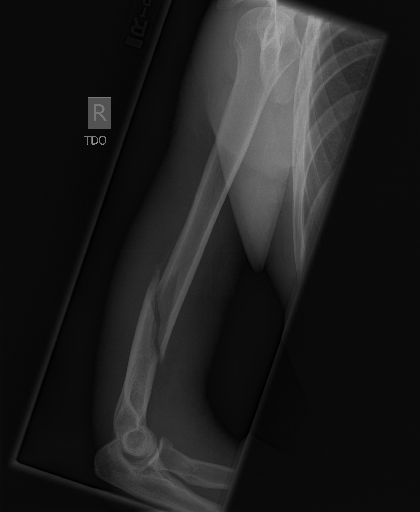fracture: (138, 240, 181, 381)
